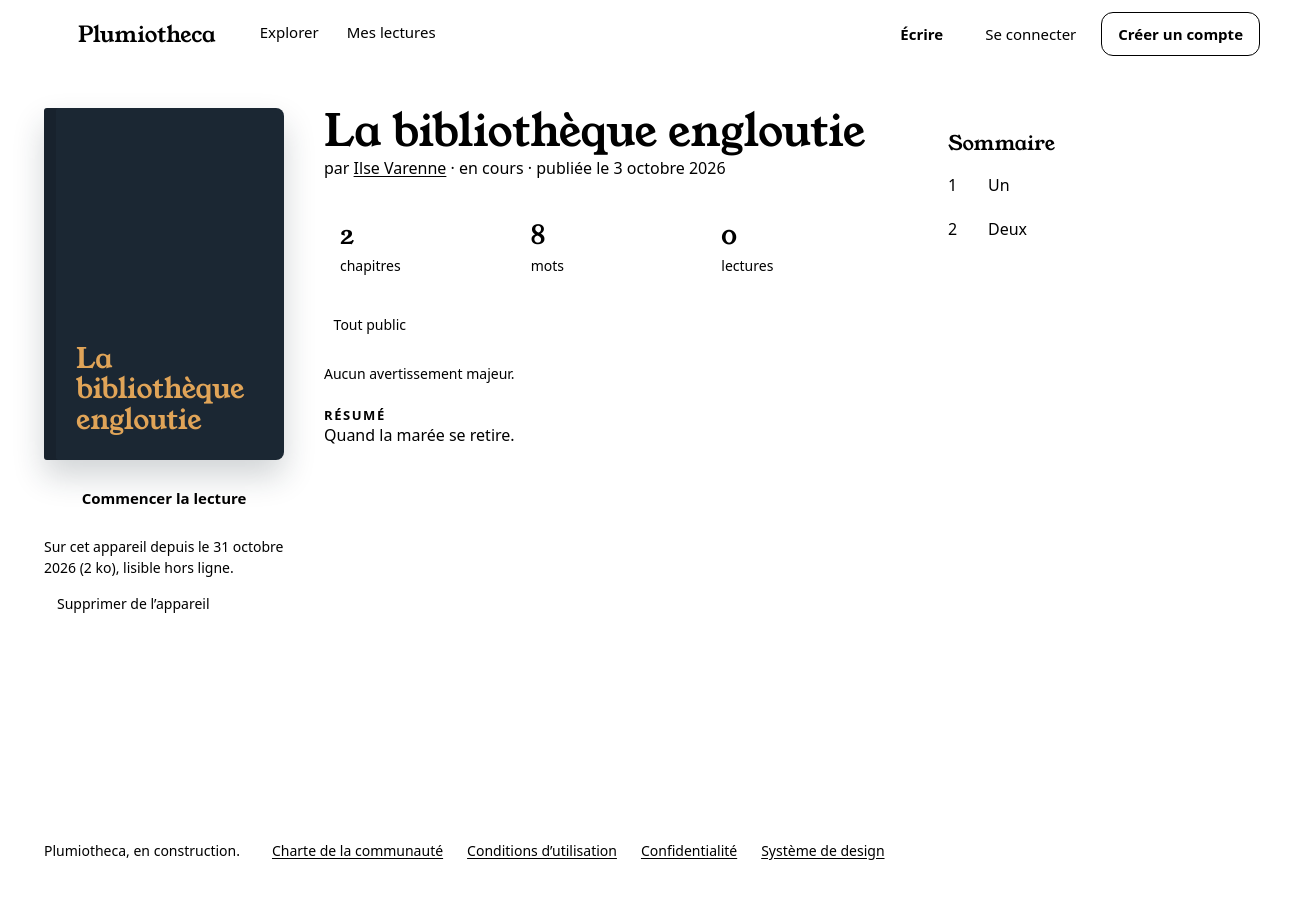
it: histoires téléchargées (#35) › mode avion, déconnecté : la fiche et les chapitres téléchargés se lisent
Expected: the heading "La bibliothèque engloutie" is shown, [324, 108, 884, 156]
Expected: the text "lisible hors ligne" is shown, [44, 537, 284, 577]
Click the link "Commencer la lecture" at x=164, y=498, box [82, 488, 246, 508]
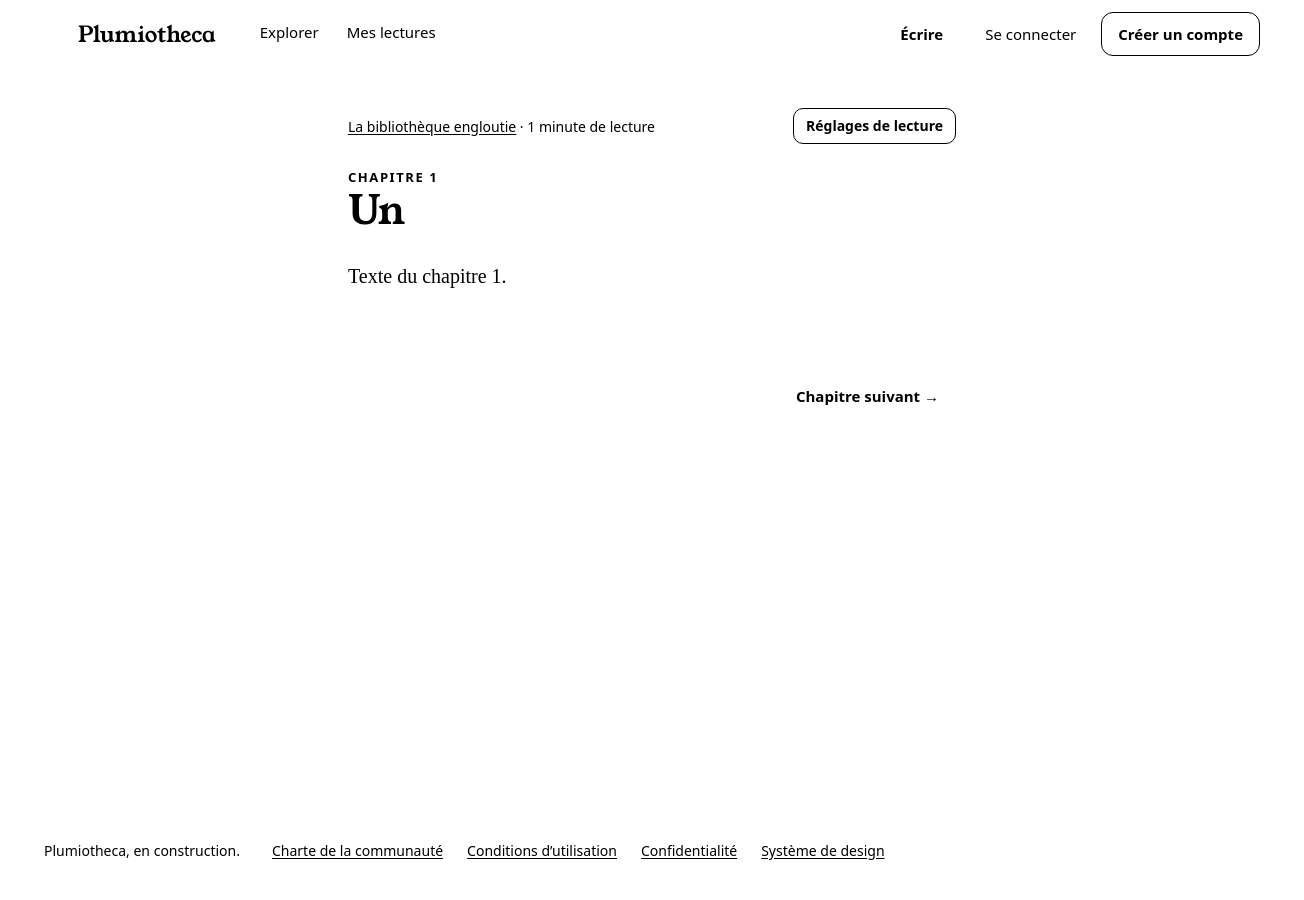
Expected: the text "Texte du chapitre 1." is shown, [348, 264, 506, 286]
Click the link "Chapitre suivant →" at x=867, y=396, box [796, 386, 939, 406]
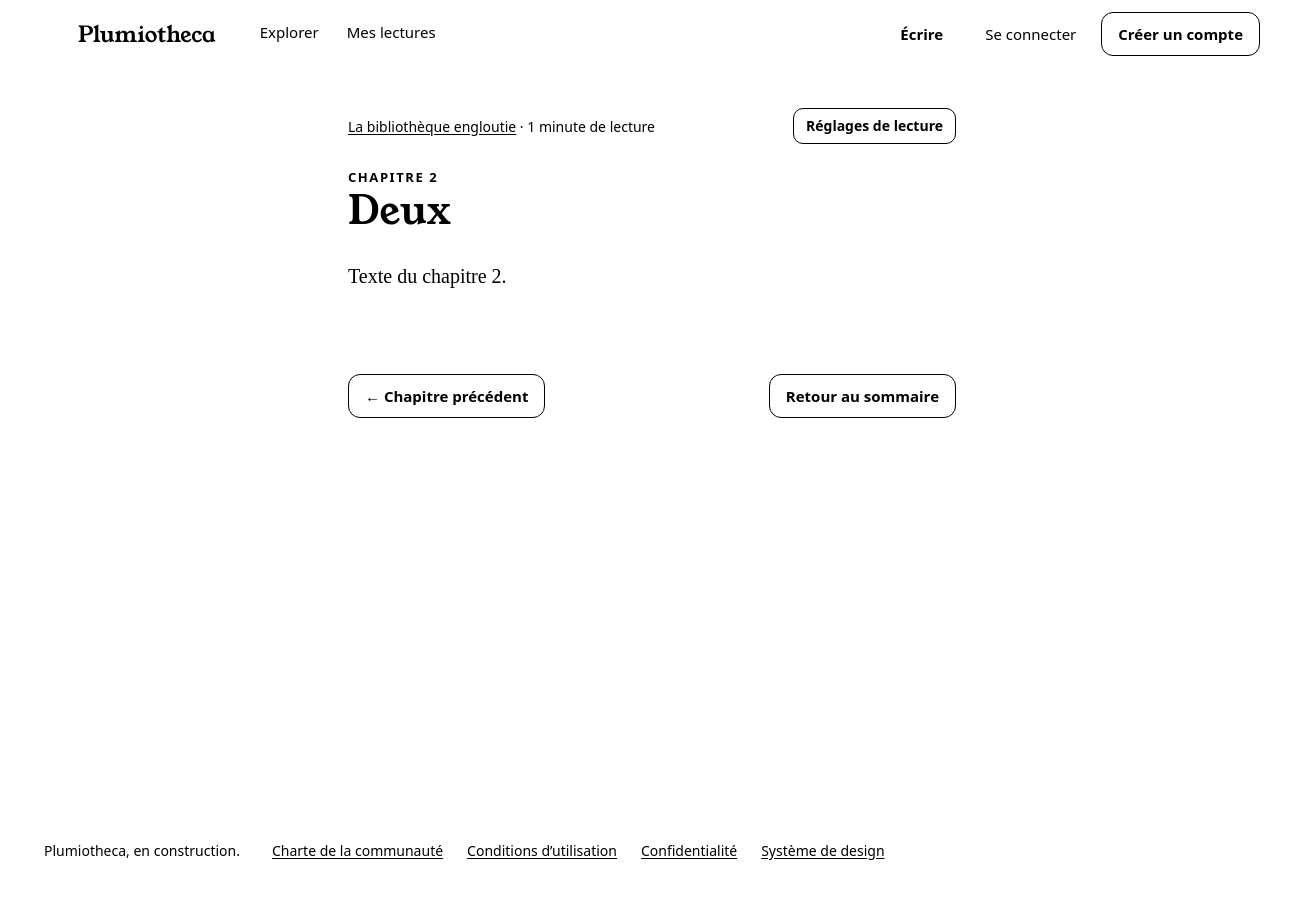
Expected: the text "Texte du chapitre 2." is shown, [348, 264, 506, 286]
